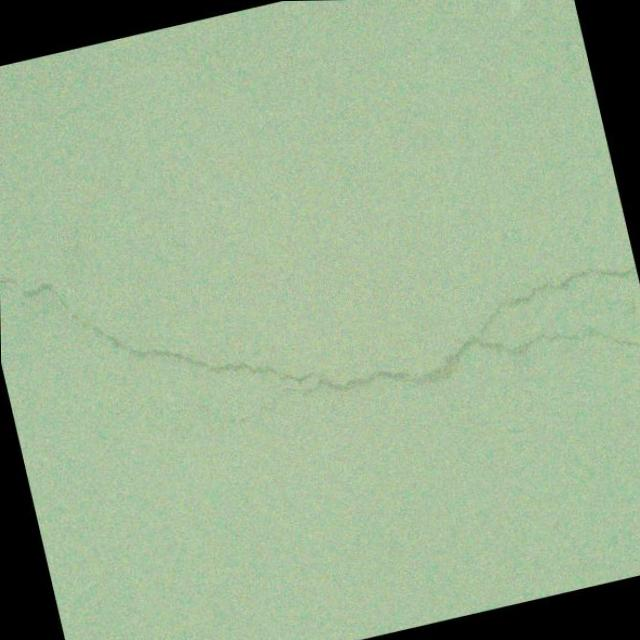crack: (0, 127, 640, 488)
